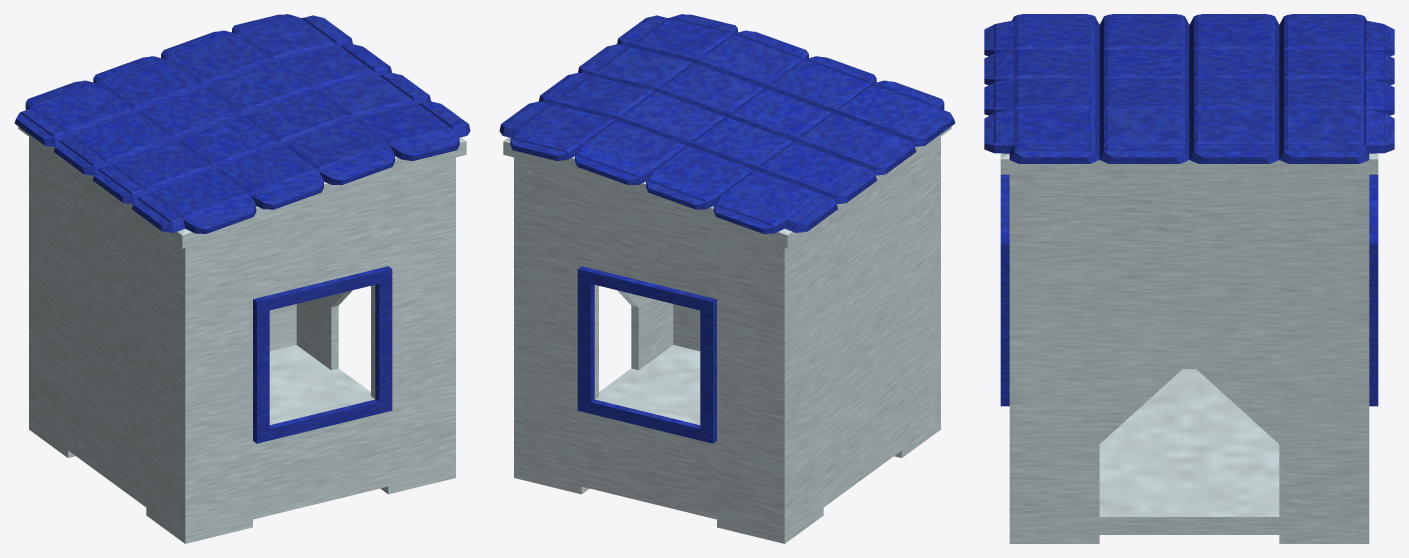
The model's file is Catscape House 1.glb.
The picture shows the model from 3 angles, left to right: view 1: azimuth 30°, elevation 25°; view 2: azimuth 150°, elevation 25°; view 3: azimuth 270°, elevation 25°; orthographic projection. The views are drawn at different scales.
Visible parts, largest first — view 1: Catscape House Variant 1; view 2: Catscape House Variant 1; view 3: Catscape House Variant 1.
Part boxes in pixels (x1=…): Catscape House Variant 1: x1=14, y1=14, x2=470, y2=543; Catscape House Variant 1: x1=499, y1=14, x2=955, y2=543; Catscape House Variant 1: x1=984, y1=14, x2=1394, y2=543.
Bounding box in the file's own units: 20.48 × 22.13 × 20.55.
2 materials, 2 textured.
